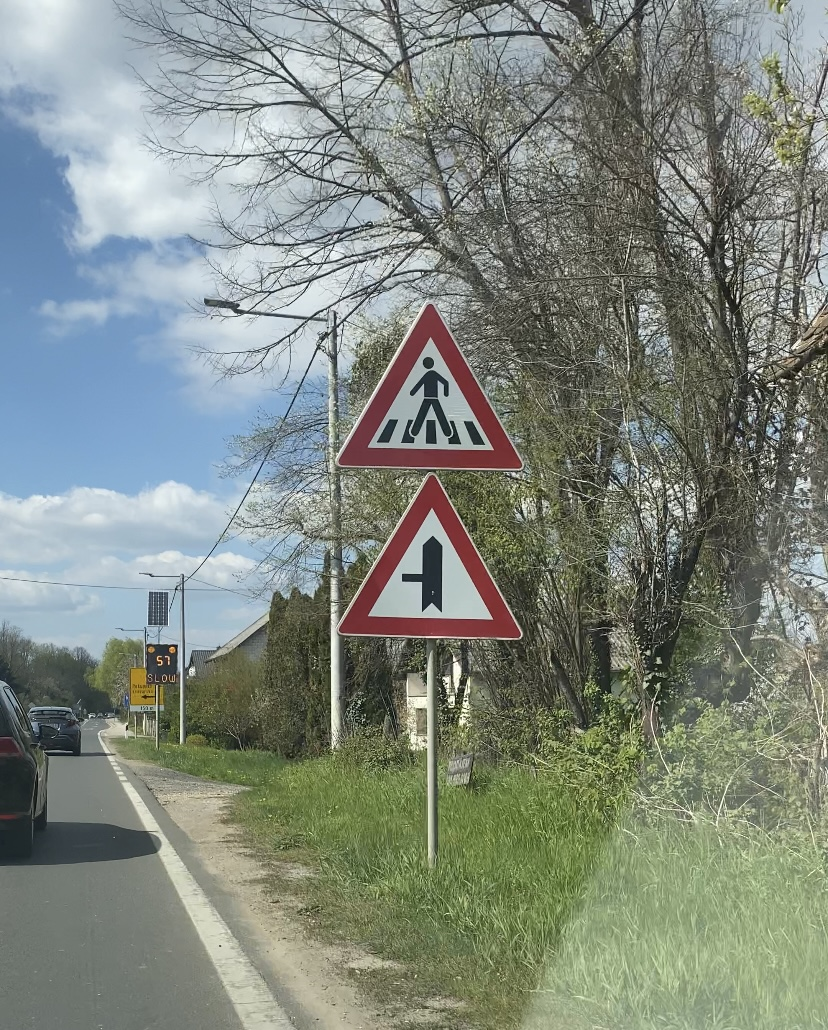Približavanje pješačkom prijelazu: (335, 299, 524, 470)
